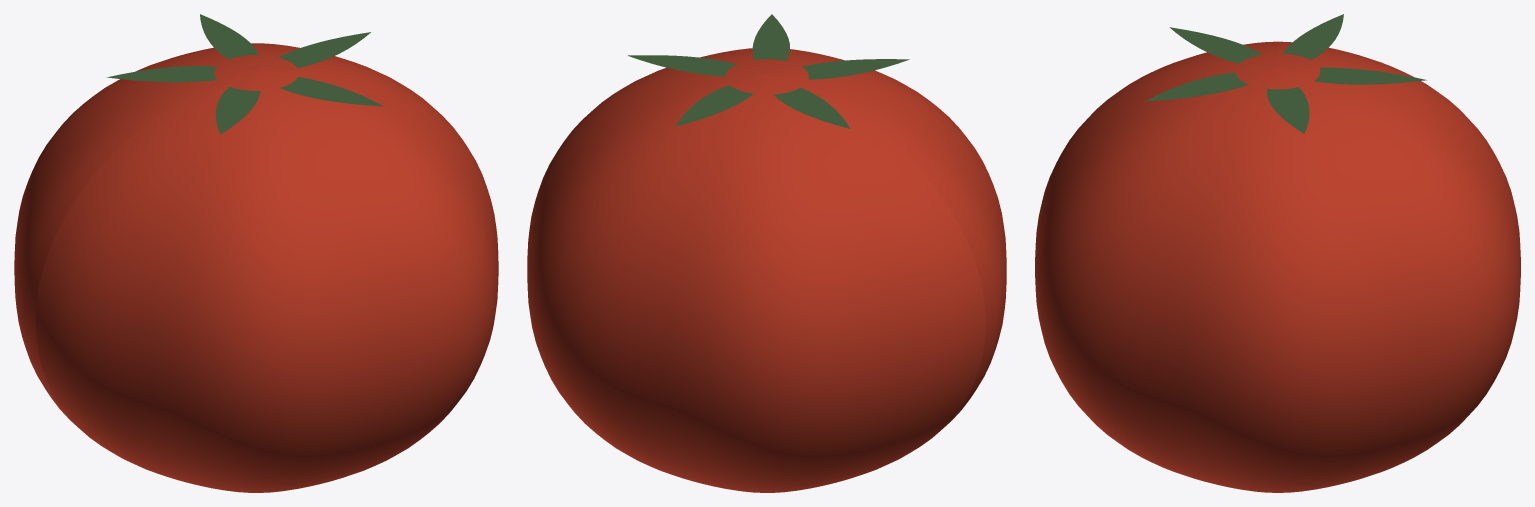
Rendered from tomato.glb.
3 renders of one model, left to right at view 1: azimuth 30°, elevation 25°; view 2: azimuth 150°, elevation 25°; view 3: azimuth 270°, elevation 25°, orthographic.
Visible parts, largest first — view 1: tomato, stem (×5); view 2: tomato, stem (×5); view 3: tomato, stem (×5).
Part boxes in pixels (x1,y1,x2,y2): tomato: [14, 43, 498, 492]; stem (×5): [106, 14, 383, 134]; tomato: [527, 48, 1006, 492]; stem (×5): [628, 14, 909, 128]; tomato: [1035, 41, 1520, 492]; stem (×5): [1145, 14, 1426, 133].
Size of the model in its own units: 0.6156 by 0.528 by 0.5844.
